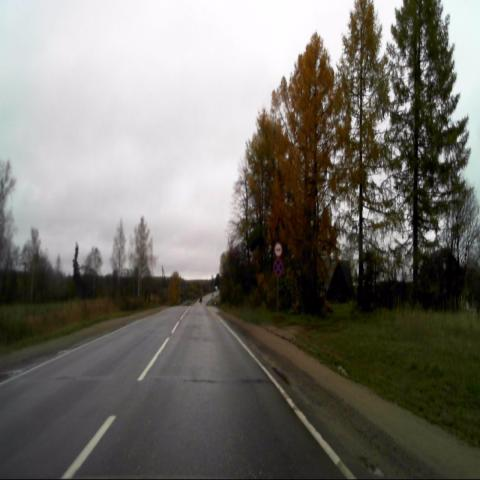3_27: (272, 256, 284, 276)
